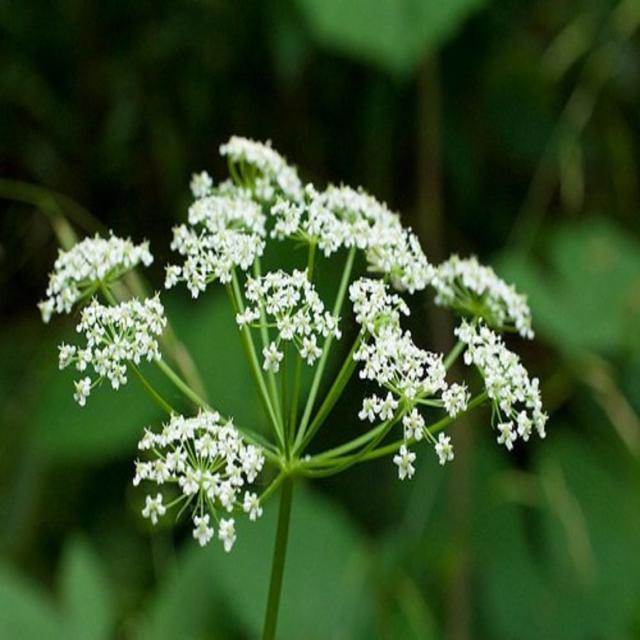Poisonous-Hemlock: (36, 128, 564, 549)
